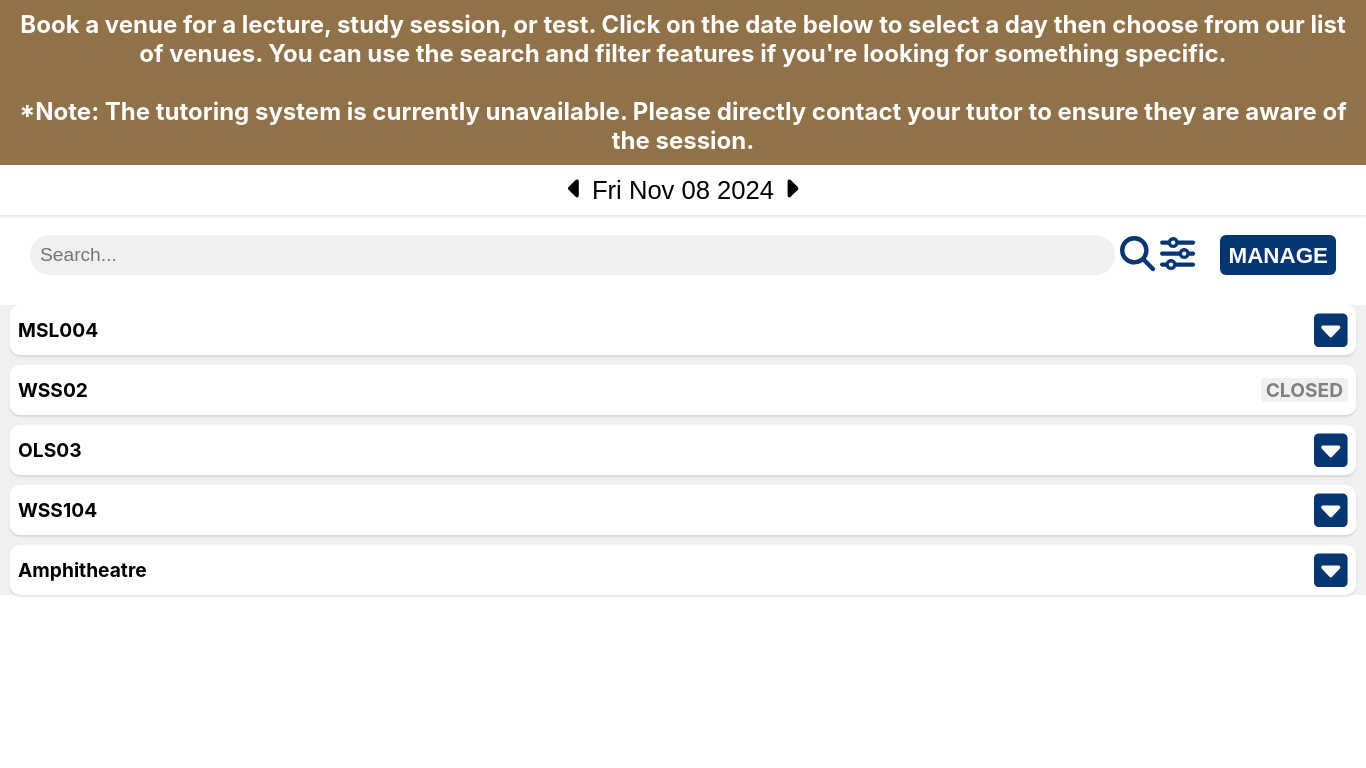
Venues › Renders Schedule When Admin Enters Schedules Mode
What coordinates should you click on to do the following:
click the button "MANAGE"
I would click on:
 (1278, 255)
Its box is left=1220, top=235, right=1336, bottom=275.
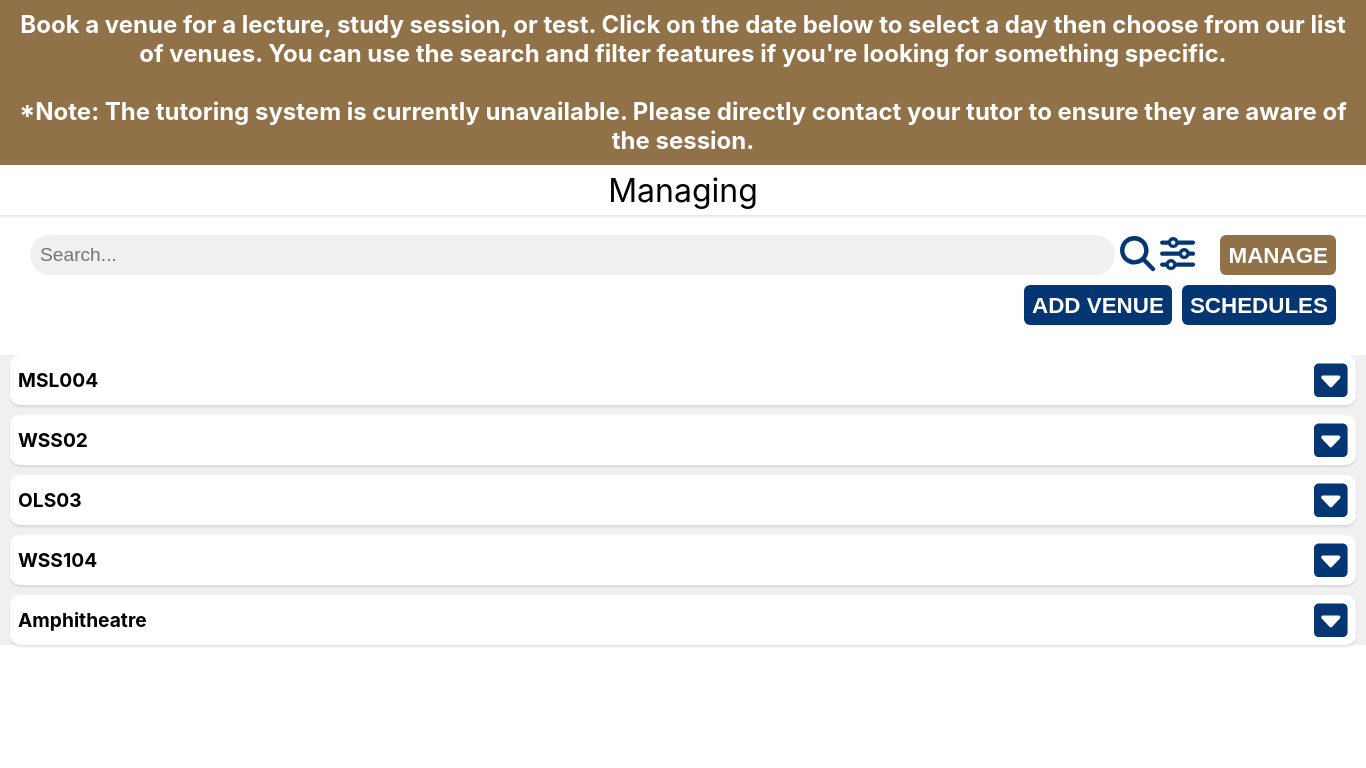
What coordinates should you click on to do the following:
click the button "SCHEDULES"
I would click on:
 (1259, 305)
Its box is left=1182, top=285, right=1336, bottom=325.
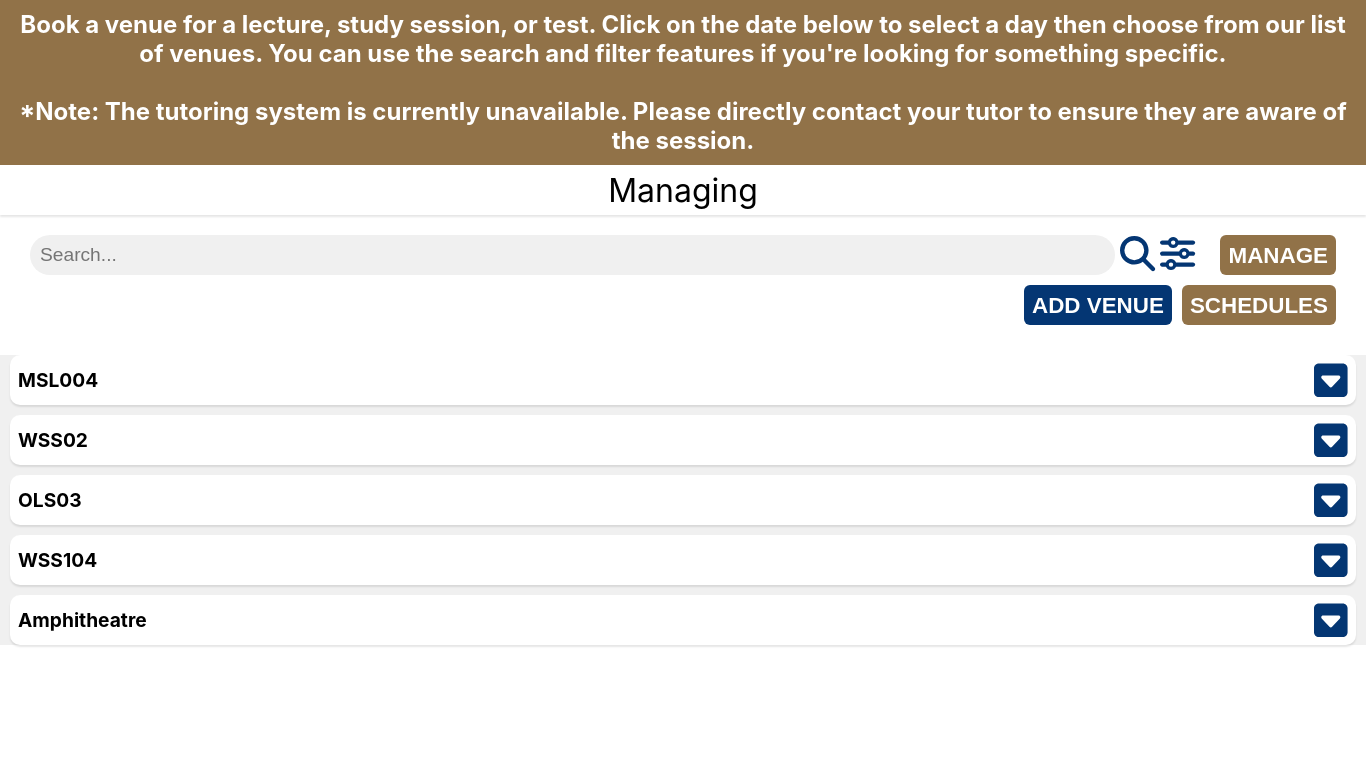
What coordinates should you click on to do the following:
click the heading "WSS02"
I would click on:
 (53, 440)
Its box is left=18, top=428, right=88, bottom=452.
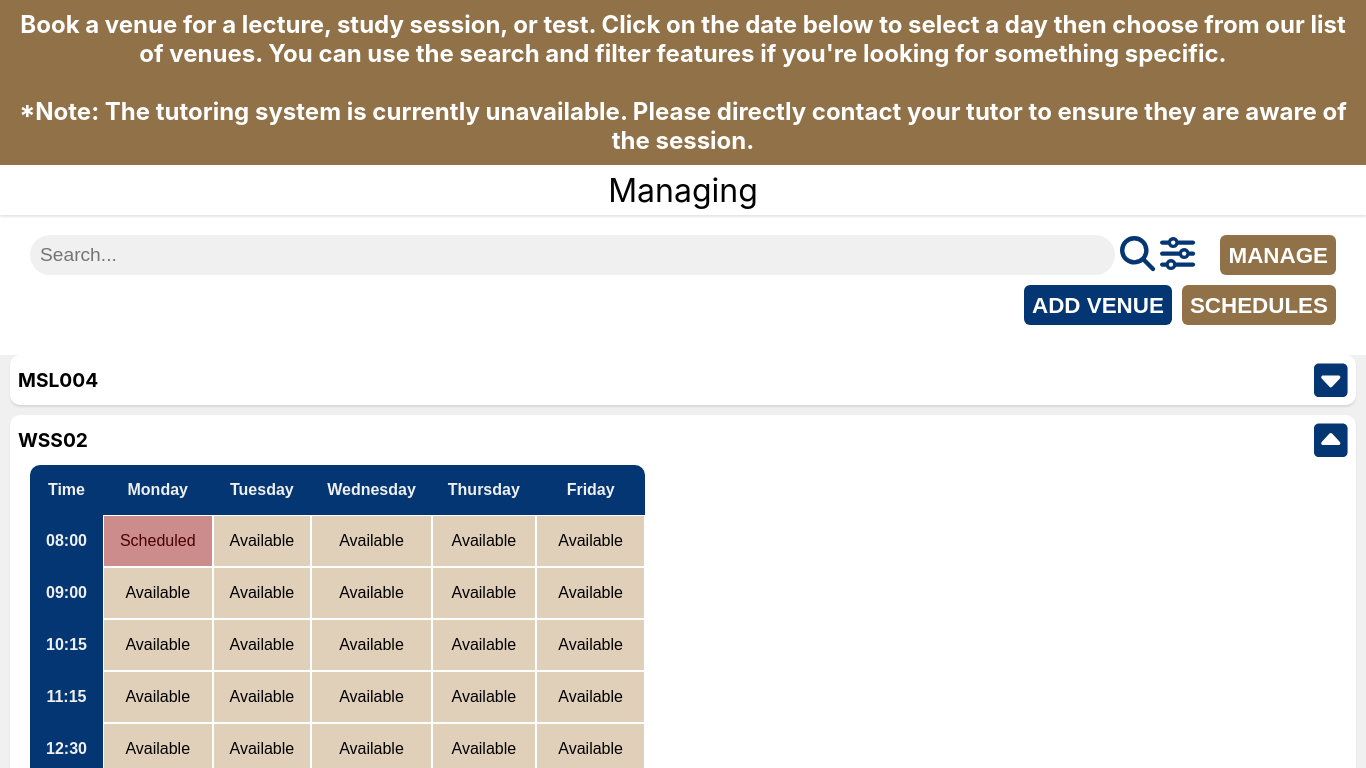
Check: the text "Scheduled" is shown 2 times
